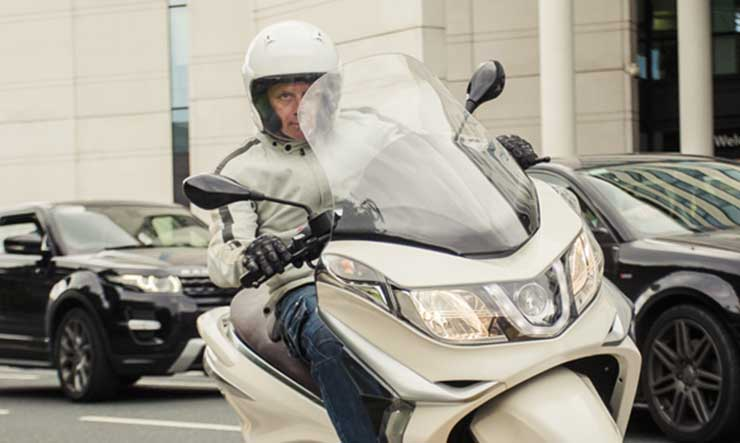helmet: (233, 15, 348, 148)
